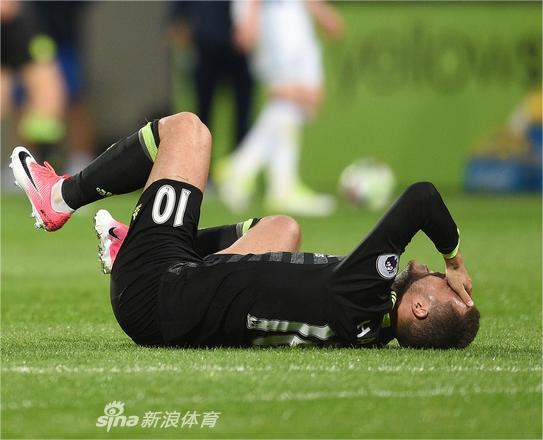down: (7, 94, 520, 374)
